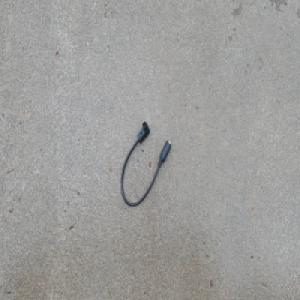Wire: (120, 119, 171, 207)
